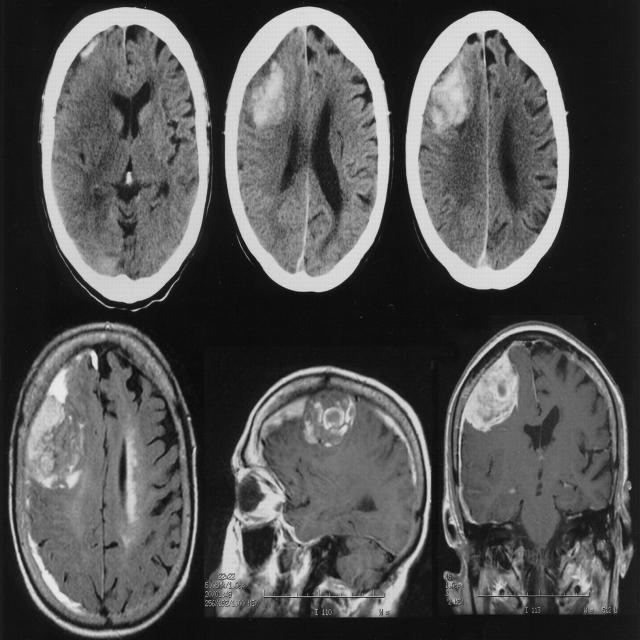Tumor: (469, 374, 516, 419), (252, 80, 286, 122), (436, 76, 467, 122), (38, 385, 61, 432)
